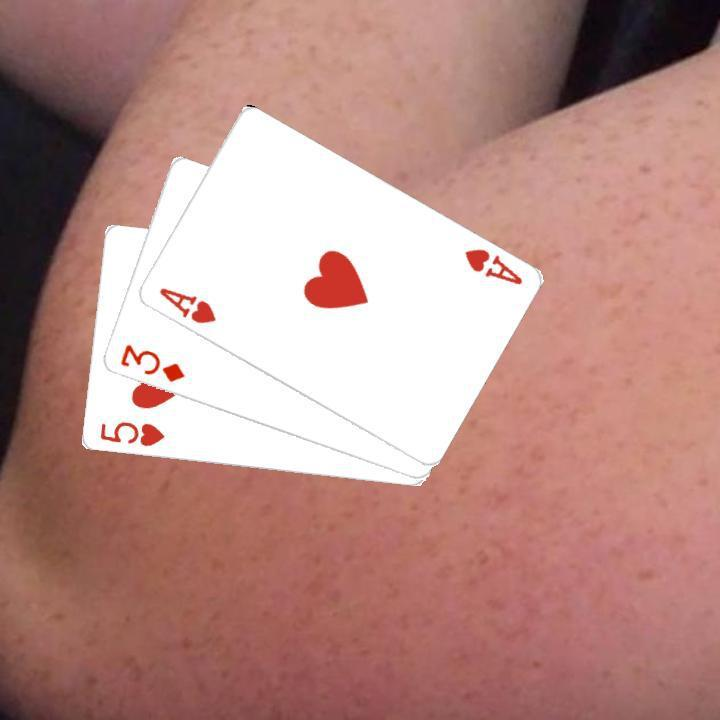3: (115, 339, 187, 385)
5: (95, 418, 166, 449)
A: (459, 244, 524, 287), (154, 283, 218, 326)
